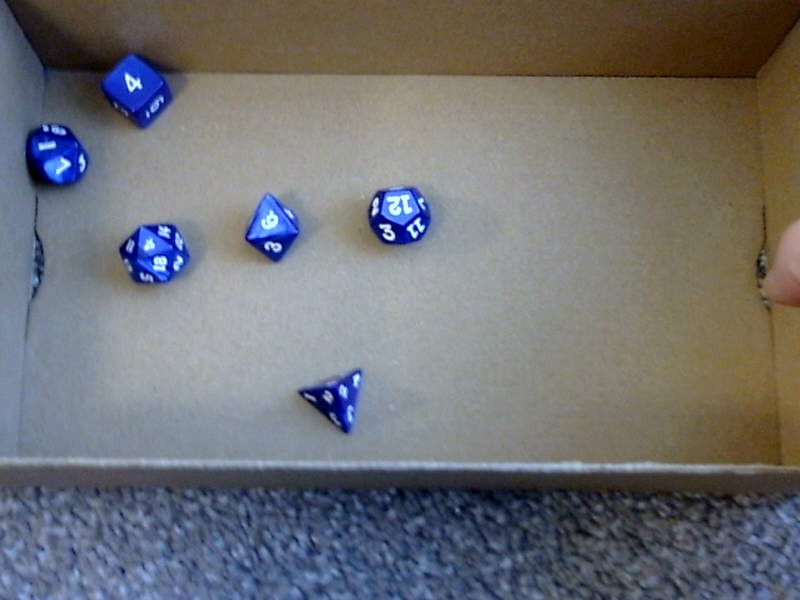d10 1: (23, 121, 91, 188)
d12 12: (365, 173, 437, 252)
d20 4: (116, 215, 195, 290)
d4 2: (294, 353, 377, 436)
d6 4: (101, 48, 175, 128)
d8 6: (242, 189, 303, 264)
